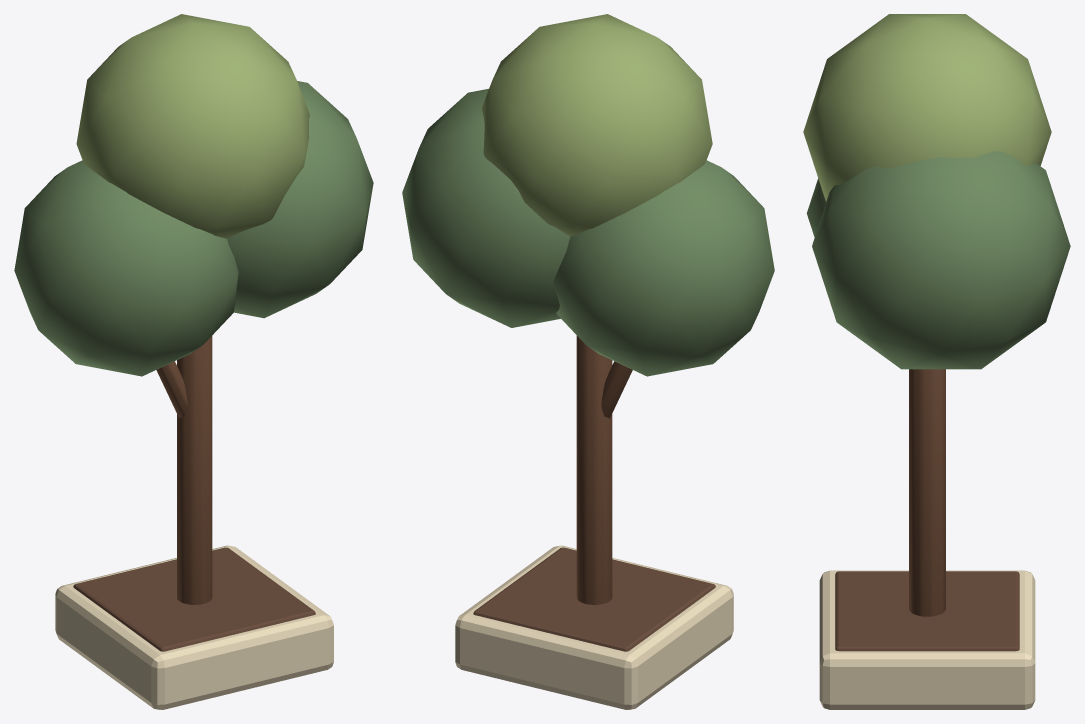
The model's file is street_tree.glb.
The picture shows the model from 3 angles, left to right: view 1: azimuth 30°, elevation 25°; view 2: azimuth 150°, elevation 25°; view 3: azimuth 270°, elevation 25°; orthographic projection. The views are drawn at different scales.
Visible parts, largest first — view 1: Rounded crown.002, Rounded crown, Tree planter, Rounded crown.001, Planter soil, Tree trunk, Branch; view 2: Rounded crown.002, Rounded crown, Rounded crown.001, Tree planter, Planter soil, Tree trunk, Branch; view 3: Rounded crown.001, Rounded crown.002, Tree planter, Planter soil, Tree trunk, Rounded crown.
Boxes of the visible parts, left/top/right/bottom form: Rounded crown.002: left=76, top=14, right=309, bottom=238; Rounded crown: left=14, top=160, right=238, bottom=376; Tree planter: left=55, top=545, right=333, bottom=709; Rounded crown.001: left=227, top=81, right=373, bottom=318; Planter soil: left=73, top=547, right=315, bottom=651; Tree trunk: left=177, top=336, right=212, bottom=604; Branch: left=156, top=361, right=187, bottom=418; Rounded crown.002: left=481, top=14, right=712, bottom=236; Rounded crown: left=553, top=160, right=774, bottom=376; Rounded crown.001: left=402, top=88, right=569, bottom=327; Tree planter: left=455, top=545, right=733, bottom=709; Planter soil: left=473, top=547, right=715, bottom=651; Tree trunk: left=576, top=335, right=612, bottom=604; Branch: left=601, top=361, right=632, bottom=418; Rounded crown.001: left=812, top=151, right=1070, bottom=369; Rounded crown.002: left=803, top=14, right=1051, bottom=201; Tree planter: left=819, top=570, right=1035, bottom=709; Planter soil: left=835, top=571, right=1019, bottom=651; Tree trunk: left=909, top=369, right=945, bottom=616; Rounded crown: left=806, top=178, right=825, bottom=237.
Size of the model in its own units: 2.26 by 4.15 by 1.55.
